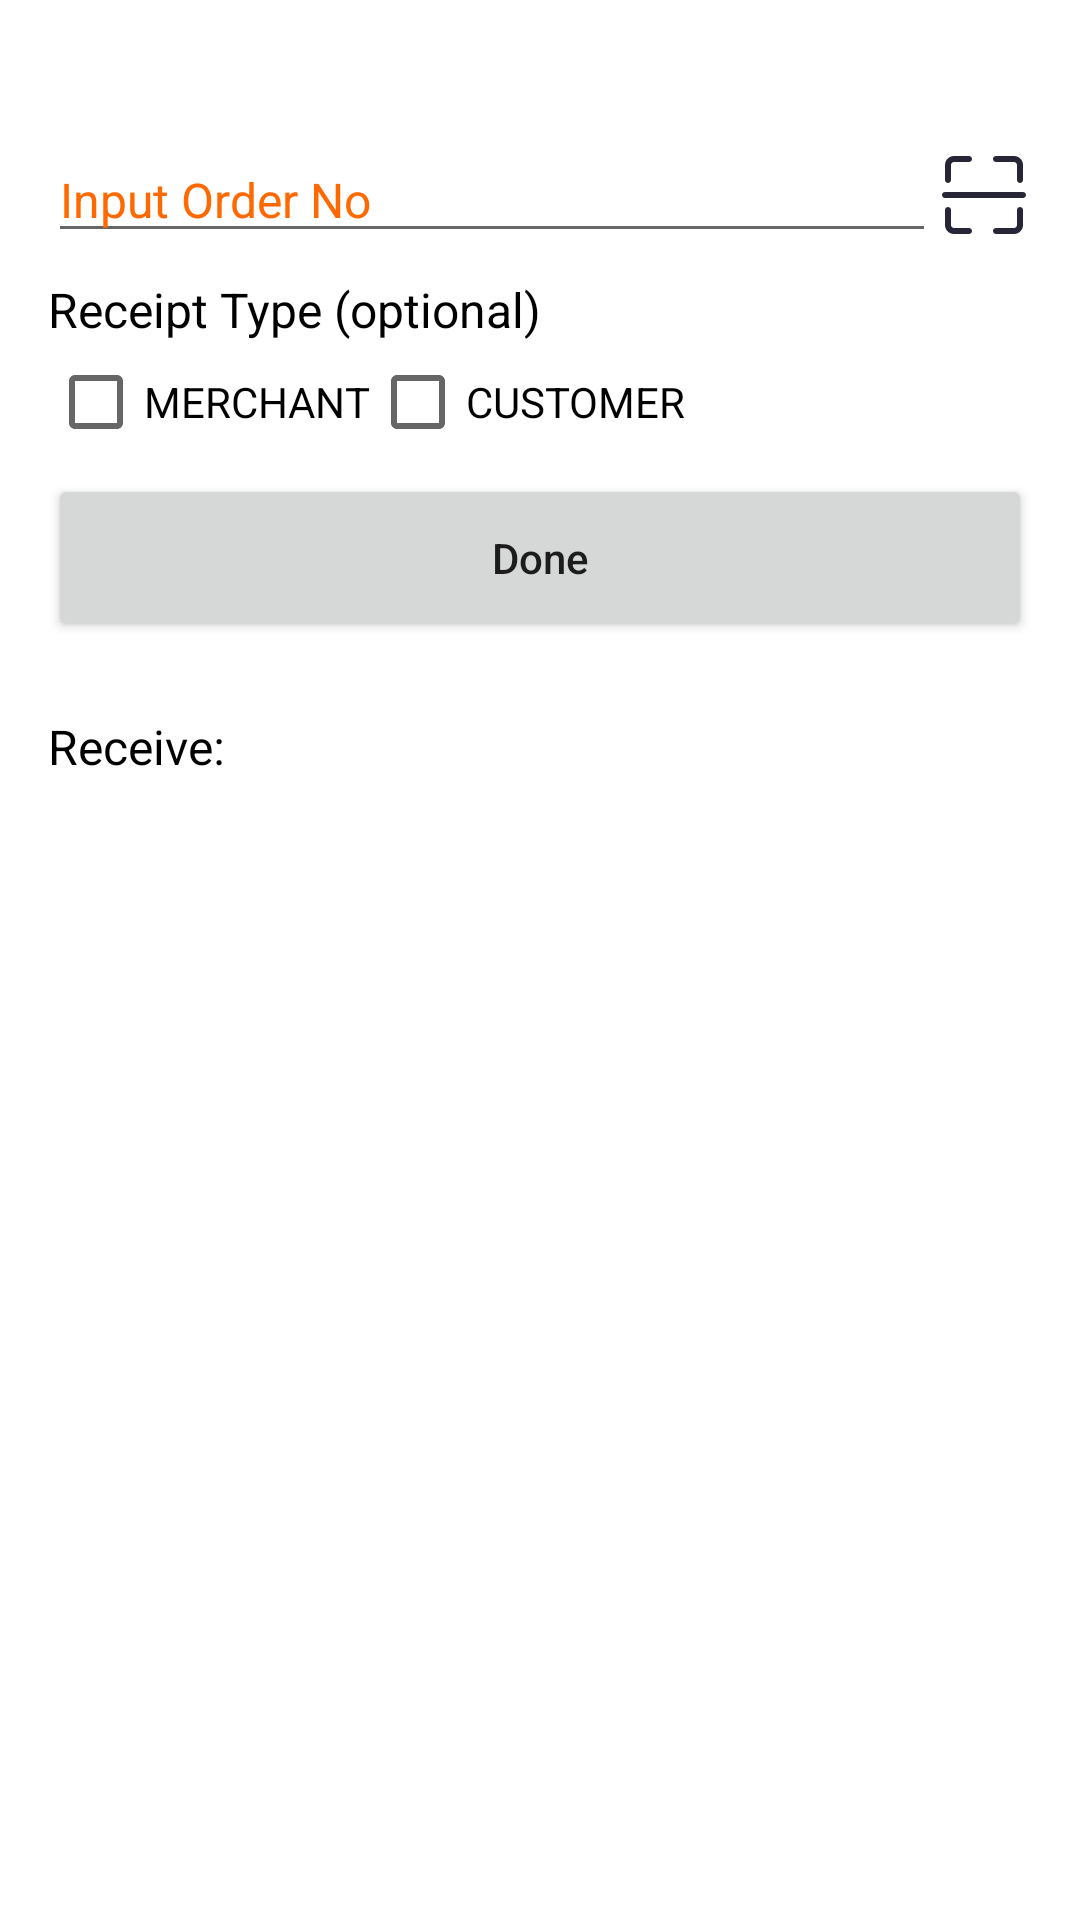

Screen size 1080 × 1920. Icon name, then its center in pixels as point (x, y):
widget scan: point (984, 195)
